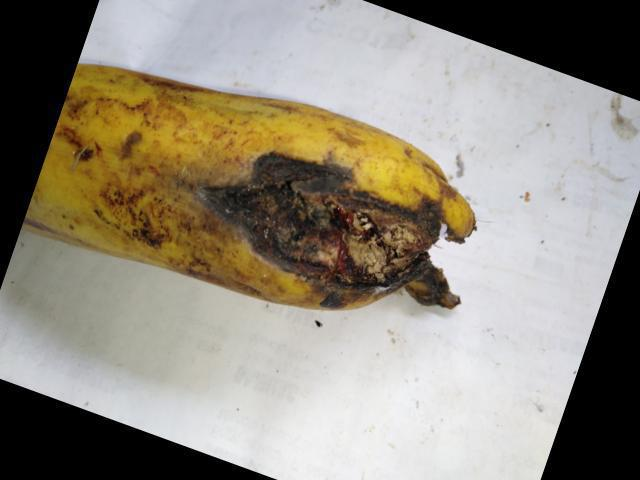ripe: (7, 45, 524, 334)
rotten: (215, 122, 494, 338)
